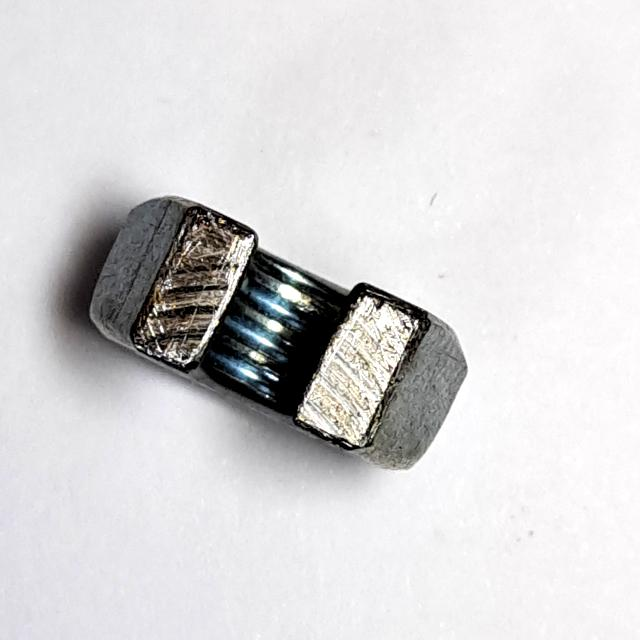Side-Fracture: (79, 185, 486, 483)
